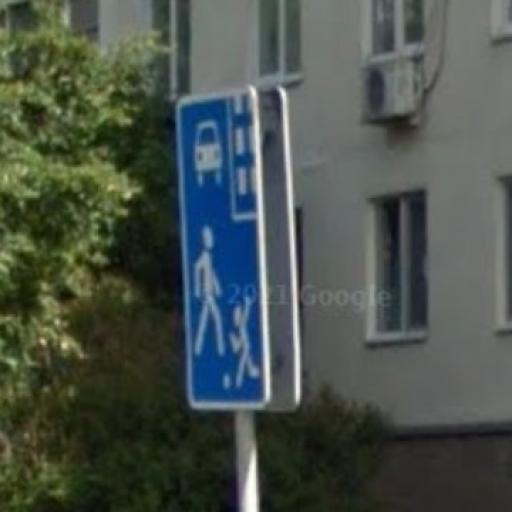traffic_sign: (173, 86, 274, 414)
